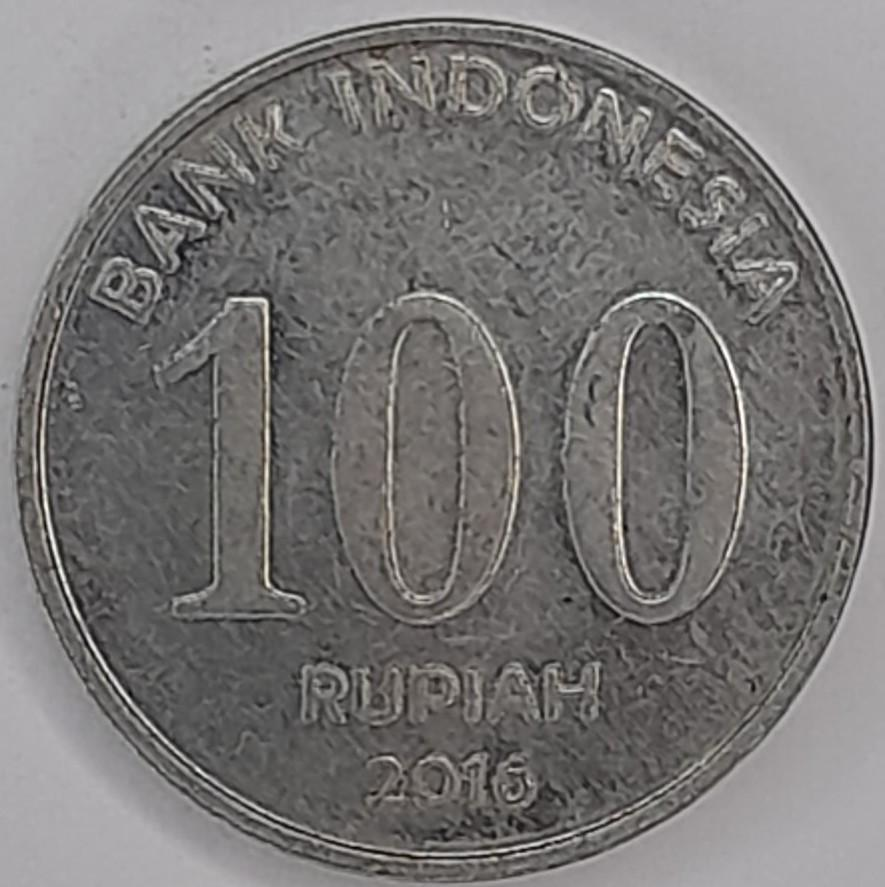coin_100_e2016: (9, 11, 881, 883)
